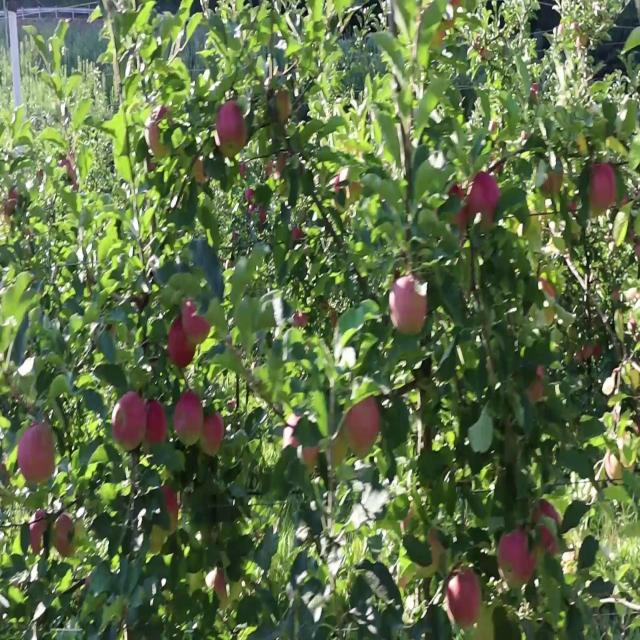apple: (16, 419, 56, 485), (500, 526, 537, 587), (448, 568, 483, 631), (392, 277, 429, 336), (344, 398, 381, 453), (112, 391, 144, 453), (216, 99, 249, 156), (176, 391, 204, 446), (168, 319, 196, 370), (472, 170, 501, 219), (184, 298, 212, 343), (592, 163, 617, 213), (148, 106, 170, 162), (536, 504, 561, 553), (144, 398, 168, 448), (448, 184, 469, 231), (56, 511, 76, 560), (204, 412, 225, 455), (332, 421, 351, 468), (160, 483, 180, 523), (32, 511, 49, 556), (425, 533, 445, 571), (332, 426, 350, 468), (544, 163, 564, 197), (248, 191, 267, 226), (528, 369, 545, 405), (604, 455, 625, 484), (276, 92, 292, 126), (212, 568, 228, 601), (268, 156, 288, 180), (284, 419, 300, 448), (400, 504, 416, 533), (300, 447, 321, 469), (540, 277, 556, 299), (292, 312, 308, 331), (196, 163, 208, 185), (584, 348, 600, 361), (292, 227, 304, 242), (588, 348, 601, 361)
